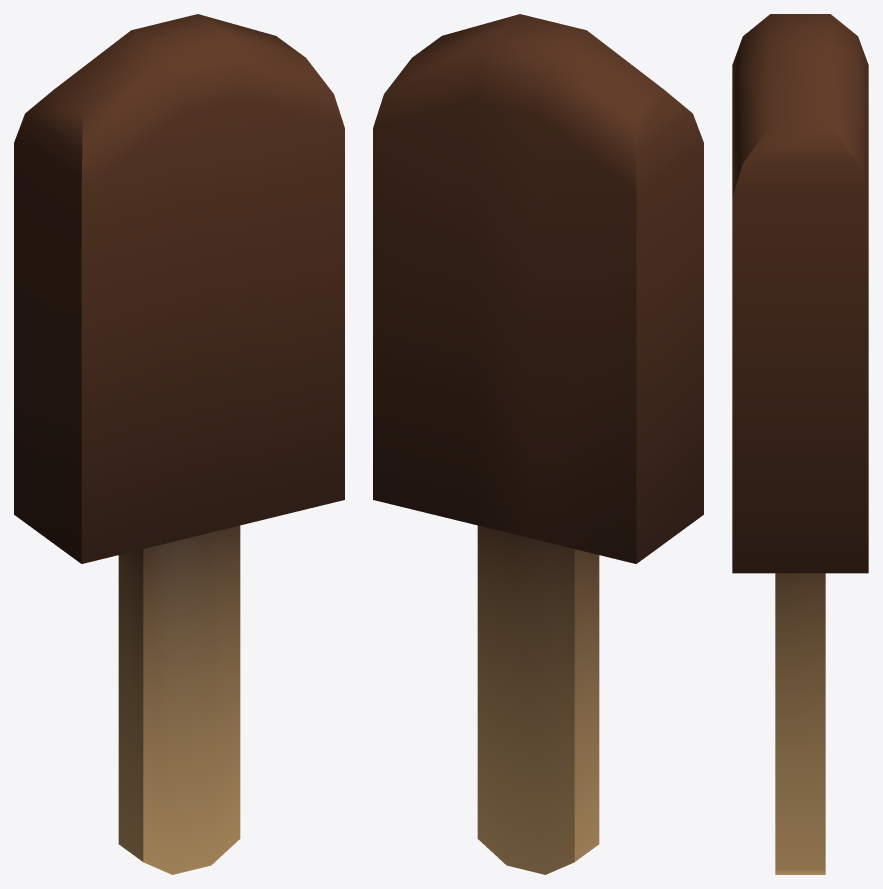
Rendered from ice_creamV2.fbx.
3 renders of one model, left to right at view 1: azimuth 30°, elevation 25°; view 2: azimuth 150°, elevation 25°; view 3: azimuth 270°, elevation 25°, orthographic.
Parts seen in each view (by area): view 1: SM_Ice_cream_v2; view 2: SM_Ice_cream_v2; view 3: SM_Ice_cream_v2.
Boxes of the visible parts, bbox=[...] form: SM_Ice_cream_v2: bbox=[14, 14, 344, 874]; SM_Ice_cream_v2: bbox=[373, 14, 703, 874]; SM_Ice_cream_v2: bbox=[732, 14, 868, 874].
Bounding box in the file's own units: 23.36 × 70.22 × 10.38.
